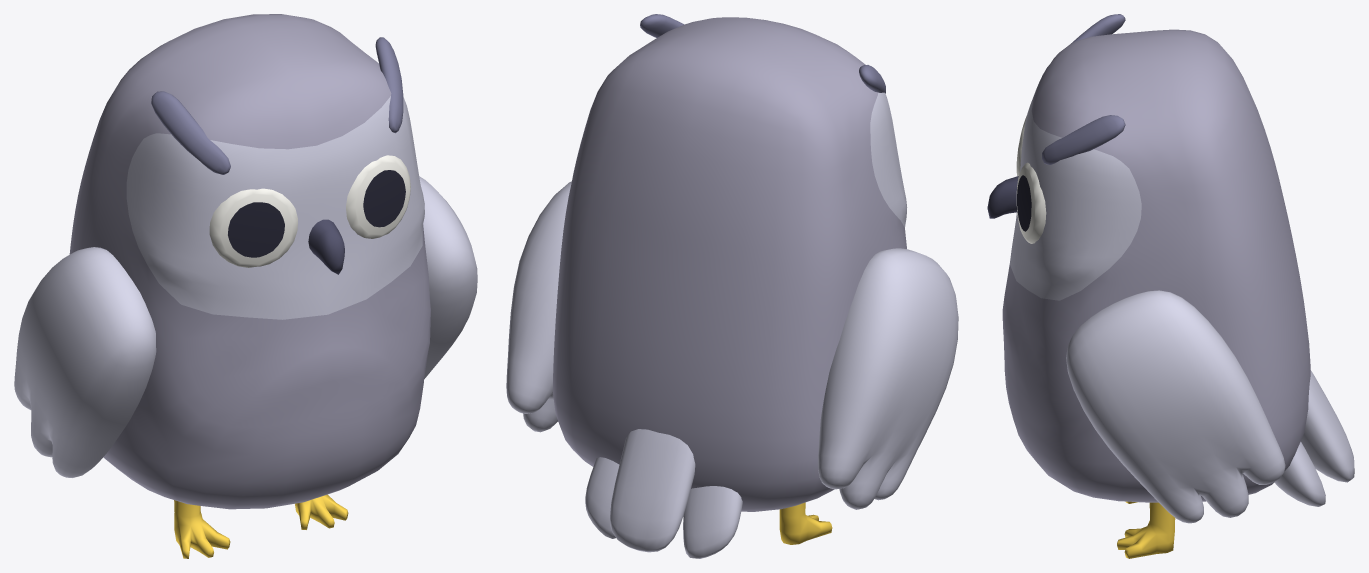
Rendered from snowowl.glb.
3 renders of one model, left to right at view 1: azimuth 30°, elevation 25°; view 2: azimuth 150°, elevation 25°; view 3: azimuth 270°, elevation 25°, orthographic. The views are drawn at different scales.
Parts seen in each view (by area): view 1: SnowOwl_LOD0; view 2: SnowOwl_LOD0; view 3: SnowOwl_LOD0.
Part boxes in pixels (bbox=[...]): SnowOwl_LOD0: bbox=[14, 14, 477, 558]; SnowOwl_LOD0: bbox=[506, 14, 958, 558]; SnowOwl_LOD0: bbox=[987, 14, 1354, 558].
Bounding box in the file's own units: 165 × 193 × 136.
Materials: 1 (1 with a texture image).
